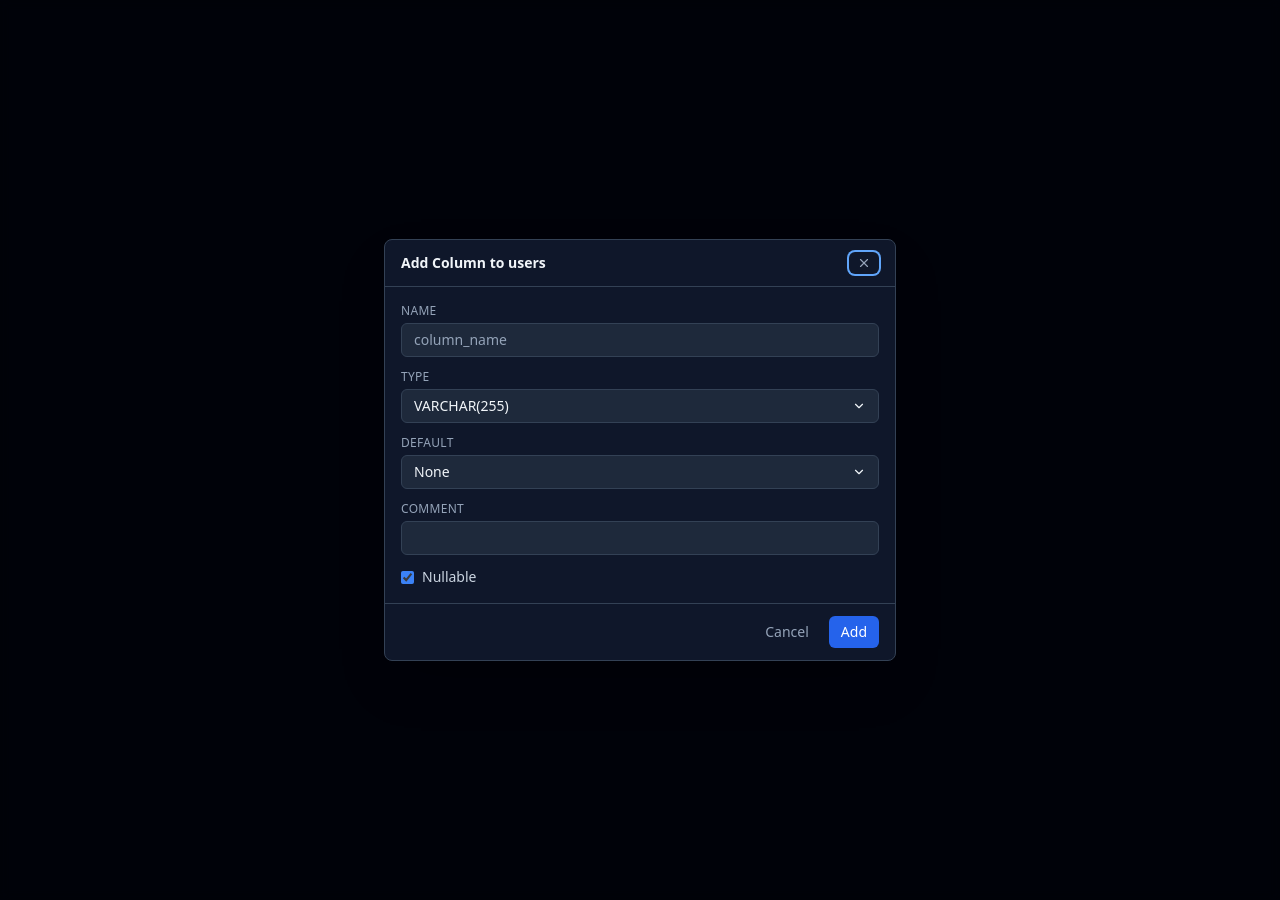
Test: EditColumnDialog save flow › disables Save while the request is in flight, so a second click cannot submit twice
In the field labelled "Name": (640, 340) [401,323,879,357], type "created_at"
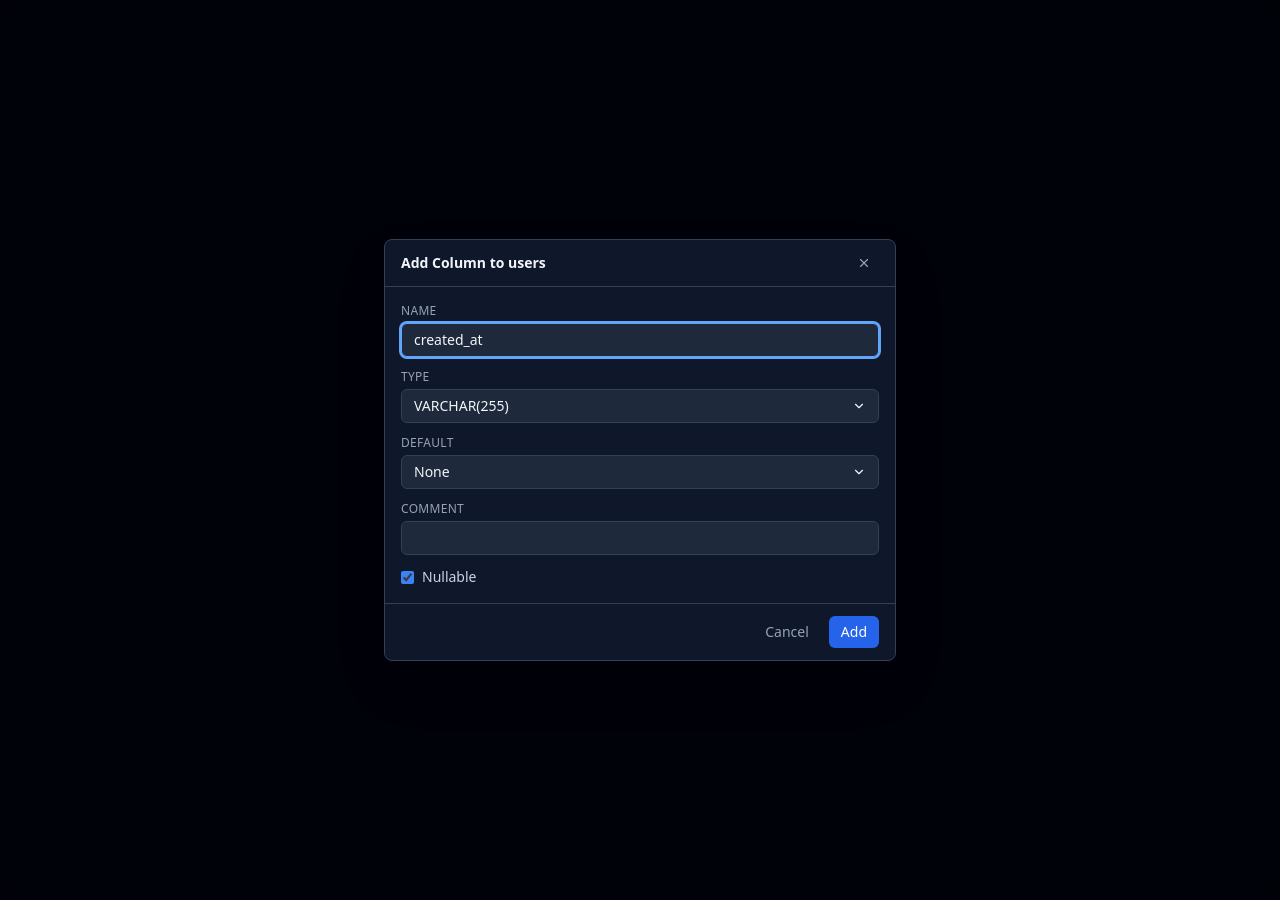
Click the button "Add": (854, 632) [829,616,879,648]
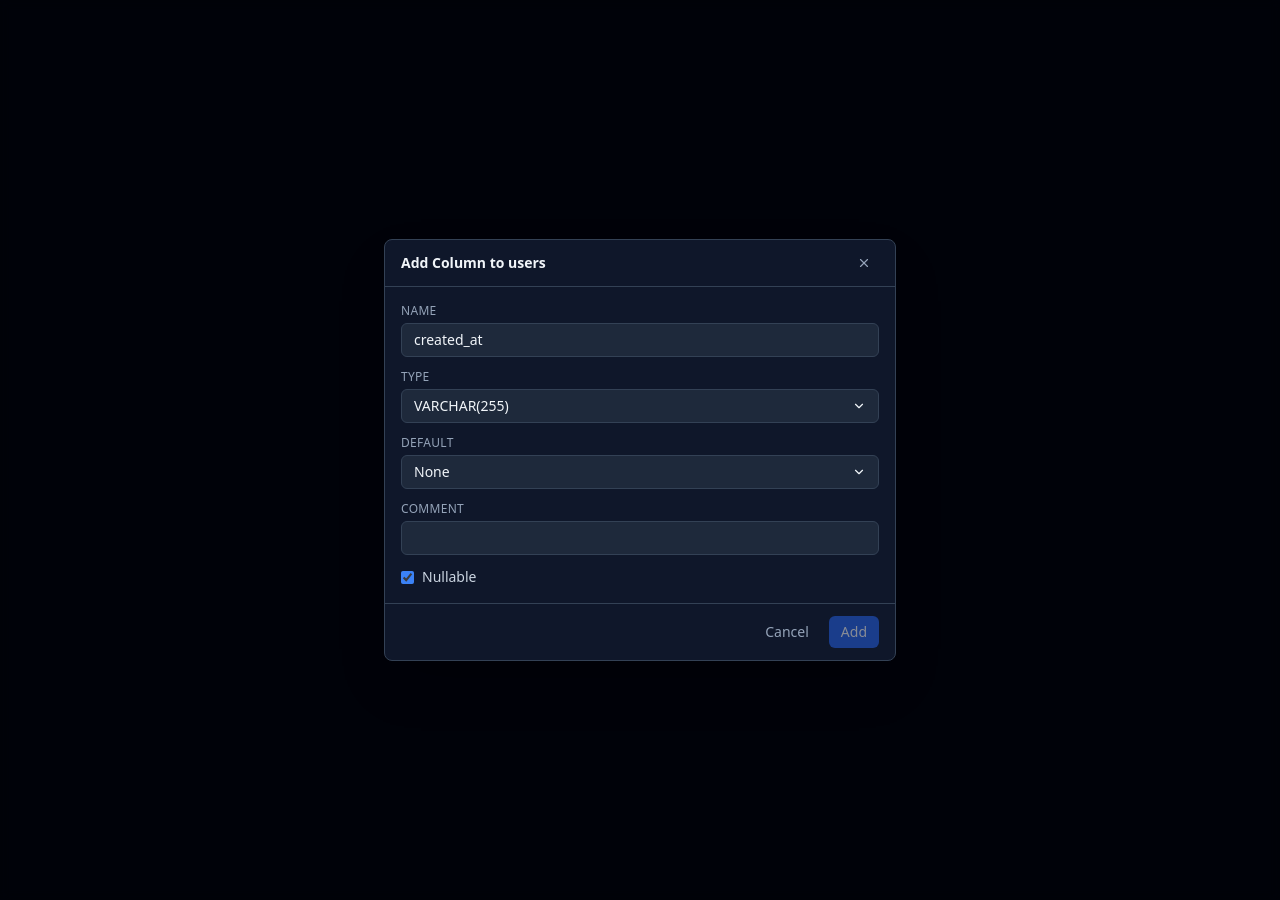
expect the button "Add" is disabled: met
Click the button "Add": (854, 632) [829,616,879,648]
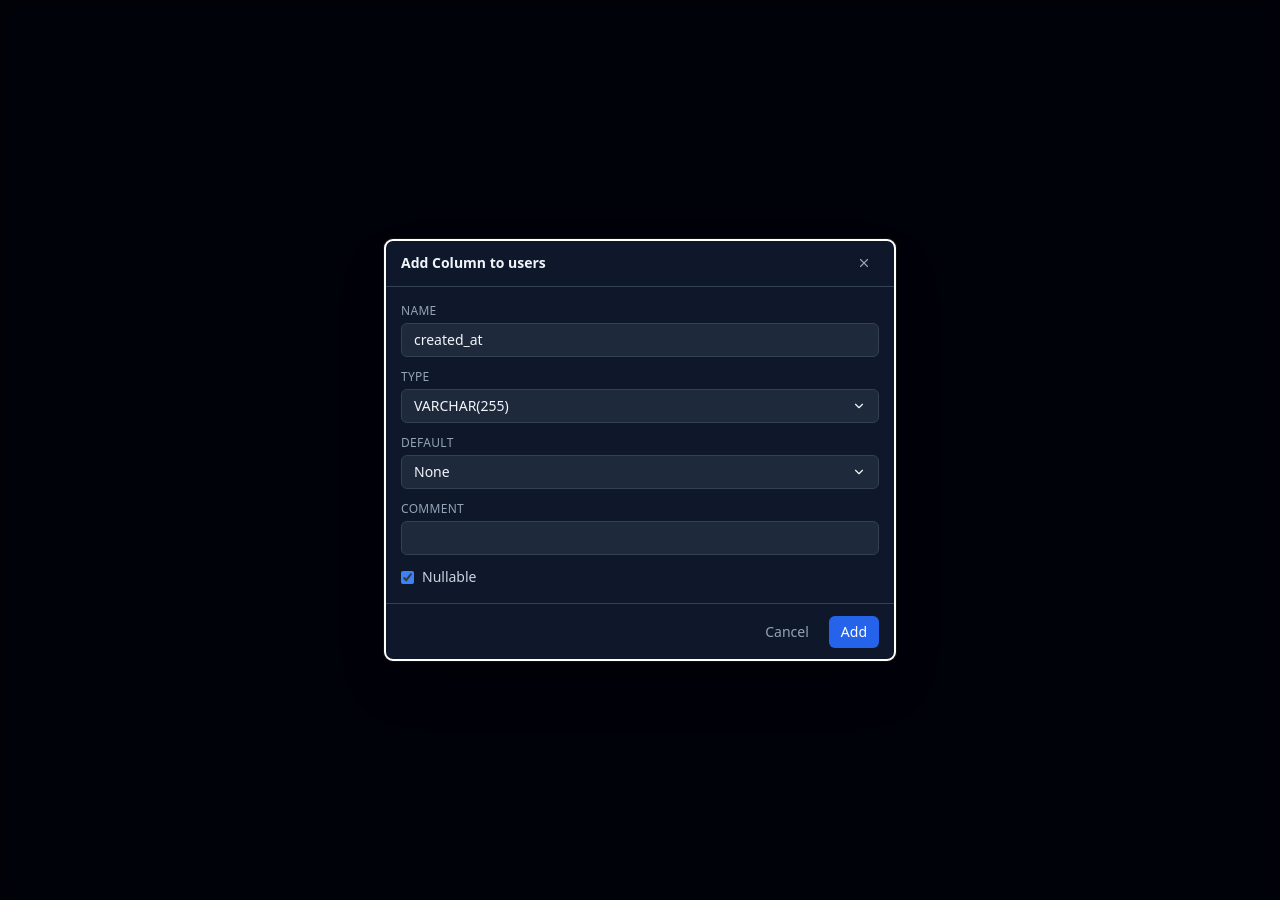
expect the button "Add" is enabled: met, box [829,616,879,648]
